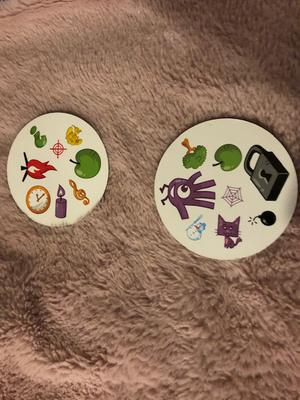arbre: (174, 135, 212, 173)
bombe: (245, 208, 276, 229)
bonhomme_neige: (184, 212, 209, 242)
cadenas: (240, 145, 291, 202), (53, 184, 70, 219)
chat: (212, 208, 246, 250)
chien: (64, 124, 85, 149)
cible: (47, 138, 66, 159)
dooble: (157, 168, 221, 221)
feu: (15, 150, 58, 184)
horloge: (23, 183, 52, 215)
note: (65, 177, 92, 208)
point_interrogation: (27, 123, 48, 148)
pomme: (209, 140, 245, 175), (68, 147, 102, 181)
toile: (220, 183, 244, 207)
